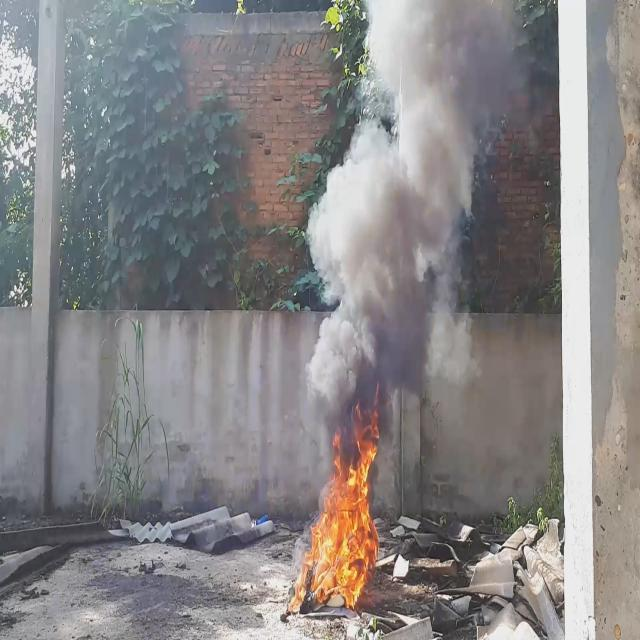Fire: (294, 412, 386, 620)
Smoke: (305, 0, 524, 463)
